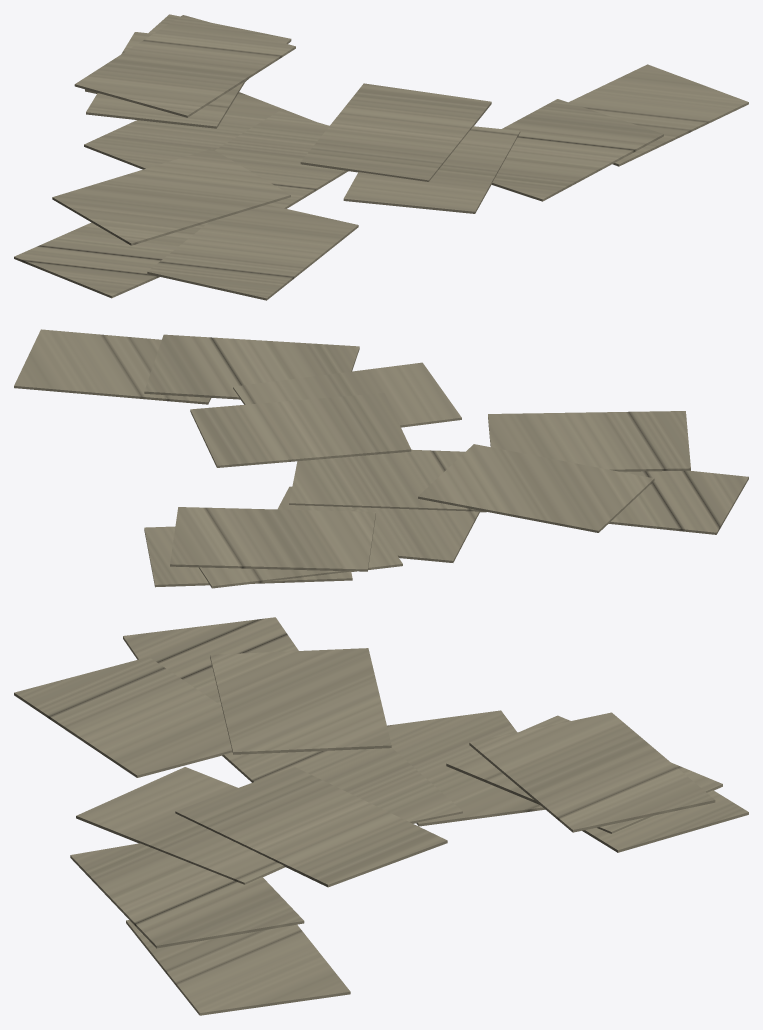
The model's file is PROP-981E2FAE23CB_lod2.glb.
The picture shows the model from 3 angles, top to bottom: view 1: azimuth 30°, elevation 25°; view 2: azimuth 150°, elevation 25°; view 3: azimuth 270°, elevation 25°; orthographic projection. The views are drawn at different scales.
Visible parts, largest first — view 1: loose_paper.001; view 2: loose_paper.001; view 3: loose_paper.001.
Part boxes in pixels (x1,y1,x2,y2): loose_paper.001: [14, 14, 748, 300]; loose_paper.001: [14, 329, 748, 588]; loose_paper.001: [14, 617, 748, 1015].
Size of the model in its own units: 1.32 by 0.037 by 1.02.
Materials: 1 (1 with a texture image).
